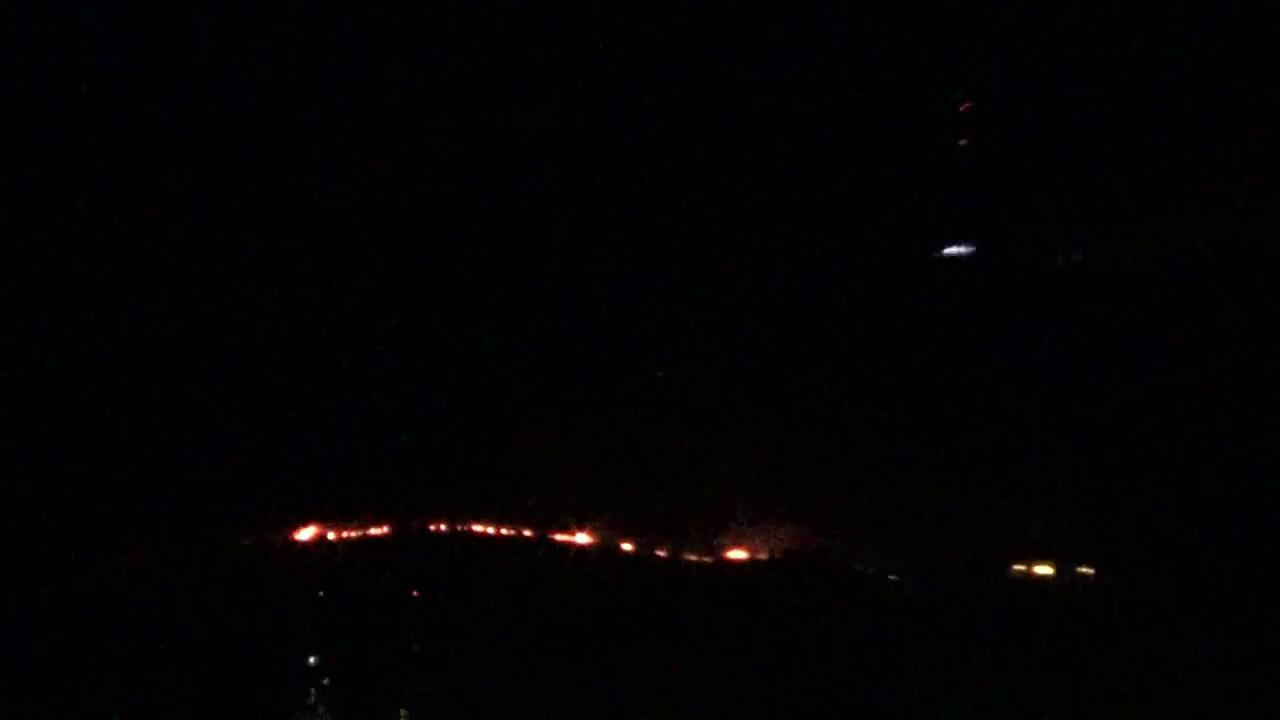fire: (283, 523, 384, 541), (433, 521, 530, 537), (676, 546, 757, 565), (1011, 561, 1054, 579), (554, 529, 593, 547), (621, 540, 634, 551)
